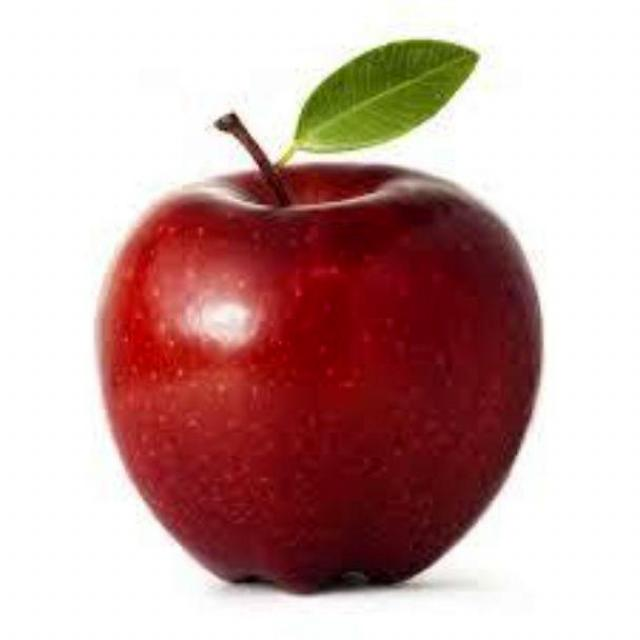HEALTHY: (66, 142, 566, 592)
